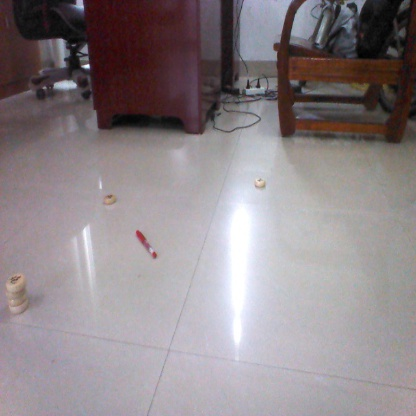chess: (6, 272, 26, 315), (253, 174, 268, 190), (102, 190, 116, 207)
pen: (131, 226, 159, 258)
